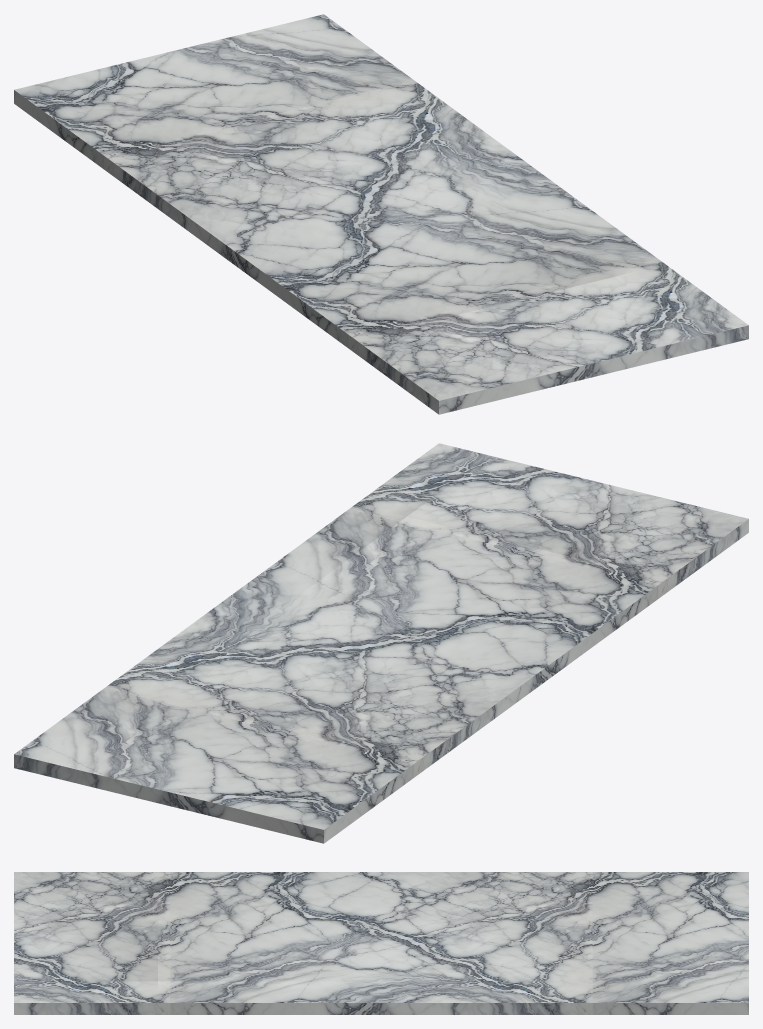
File: countertop-two.glb
3 views of the same model, one above another, from view 1: azimuth 30°, elevation 25°; view 2: azimuth 150°, elevation 25°; view 3: azimuth 270°, elevation 25° (orthographic). The views are drawn at different scales.
Visible parts, largest first — view 1: Cube.038; view 2: Cube.038; view 3: Cube.038.
Part boxes in pixels (x1=…): Cube.038: x1=14, y1=14, x2=748, y2=414; Cube.038: x1=14, y1=443, x2=748, y2=843; Cube.038: x1=14, y1=872, x2=748, y2=1014.
Bounding box in the file's own units: 0.4699 × 0.02 × 1.12.
1 material, 1 textured.
